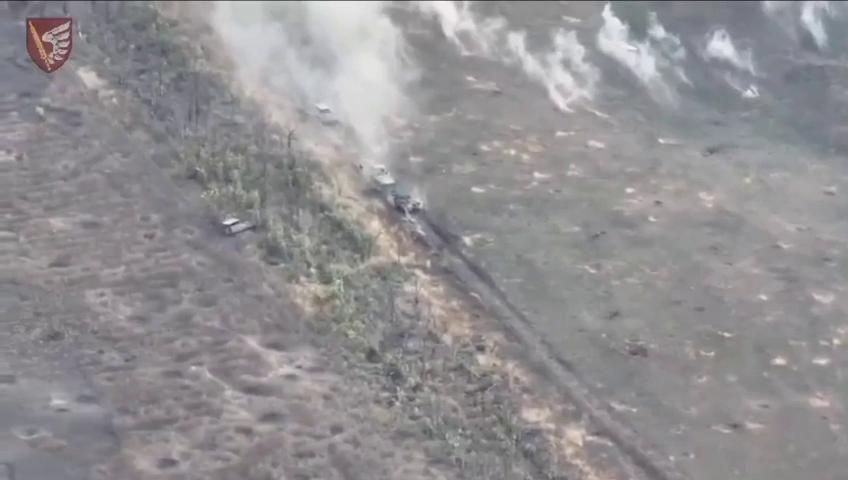tank: (386, 190, 422, 220), (366, 165, 399, 193), (310, 99, 340, 128)
